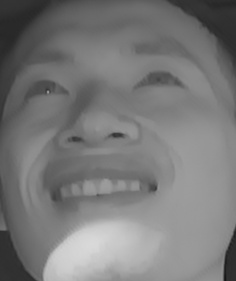eye: (132, 59, 190, 97), (18, 72, 72, 101)
mouth: (44, 158, 161, 217)
